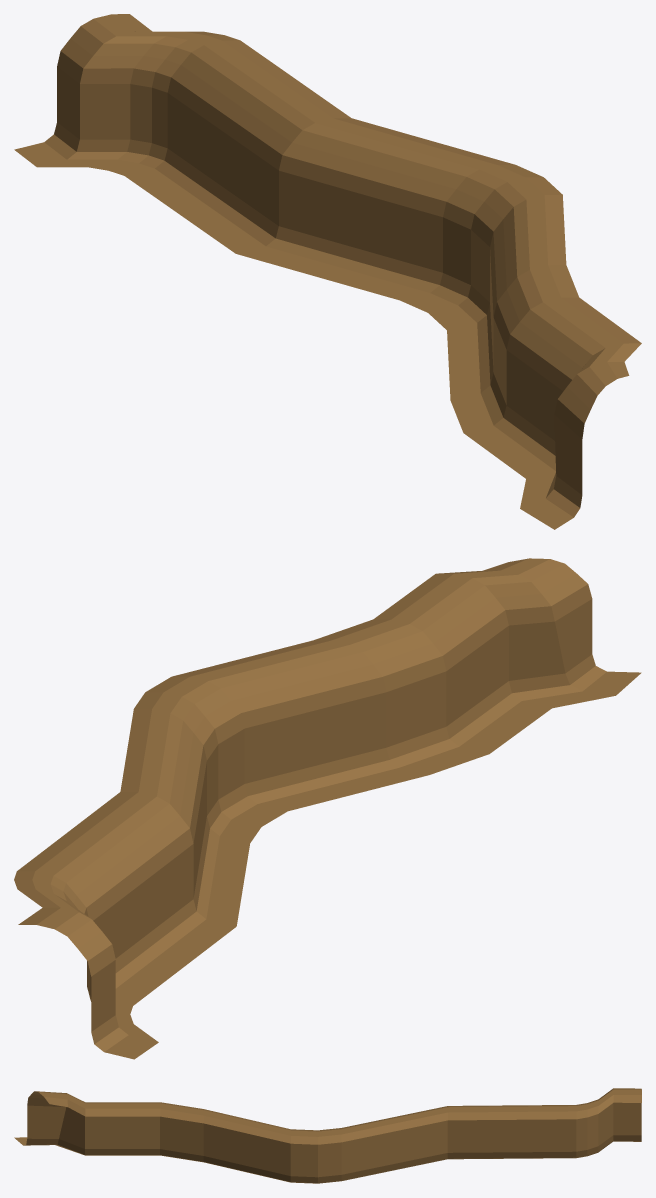
File: BenchesArea.fbx
3 views of the same model, one above another, from view 1: azimuth 30°, elevation 25°; view 2: azimuth 150°, elevation 25°; view 3: azimuth 270°, elevation 25° (orthographic). The views are drawn at different scales.
Visible parts, largest first — view 1: TrenchBenches; view 2: TrenchBenches; view 3: TrenchBenches.
Part boxes in pixels (box(x1,y1,x2,y2)): TrenchBenches: box(14, 14, 641, 529); TrenchBenches: box(14, 558, 641, 1059); TrenchBenches: box(14, 1088, 641, 1183).
Size of the model in its own units: 713 by 291 by 2490.
